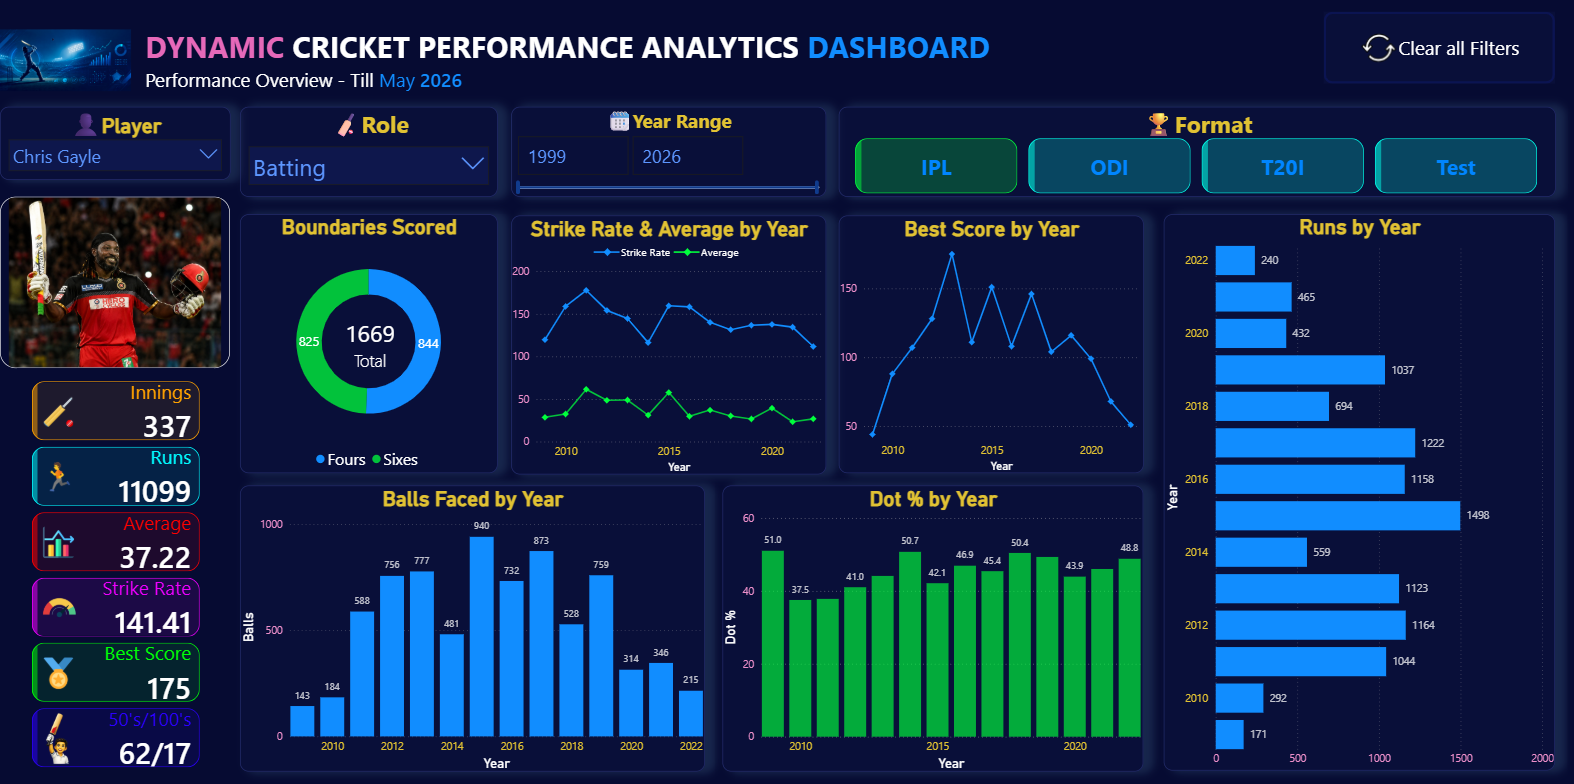

The page's visual inventory and layout, read from the dashboard file:
{"tool":"powerbi","page":{"name":"Page 1","canvas":[2000,1000],"ordinal":0},"visuals":[{"type":"slicer","title":"🗓️Year Range","fields":{"Values":["Years.Year"]},"box":[648.6,138.1,399.7,114.5],"z":0},{"type":"donutChart","fields":{"Y":["Style.Display Boundaries Fours","Style.Display Boundaries Sixes"]},"box":[305.2,274.3,327,328.9],"z":1000},{"type":"advancedSlicerVisual","title":"🏆Format","fields":{"Values":["Formats.Format"]},"box":[1064.7,138.1,910.2,114.5],"z":2000},{"type":"areaChart","title":"Strike Rate & Average by Year","fields":{"Y":["Style.Display Strike Rate","Style.Display Average"],"Category":["Years.Year"]},"box":[648.6,276.2,399.7,328.9],"z":3000},{"type":"slicer","title":"👤Player","fields":{"Values":["Players.Player"]},"box":[0,138.1,292.5,92.7],"z":4000},{"type":"image","box":[0,252.4,292.1,217.5],"z":5000},{"type":"slicer","title":"🏏Role","fields":{"Values":["Style.Style"]},"box":[305.2,138.1,327,114.5],"z":6000},{"type":"lineChart","fields":{"Y":["Style.Display Best Score/BBI Wickets"],"Category":["Years.Year"]},"box":[1064.7,276.2,387,327],"z":7000},{"type":"barChart","fields":{"Category":["Years.Year"],"Y":["Style.Display Runs/Wickets by Year"]},"box":[1477.4,274.2,496.8,706.5],"z":8000},{"type":"cardVisual","fields":{"Data":["Style.Display Innings","Style.Display Runs/Wickets","Style.Display Average","Style.Display Strike Rate/Economy","Style.Display Best Score/BBI","Style.Display 50s&100s / 5Wickets"]},"box":[23.6,470.6,247.1,528.7],"z":9000},{"type":"cardVisual","fields":{"Data":["Style.Display Total Boundaries"]},"box":[407.4,387,124.1,105.6],"z":10000},{"type":"clusteredColumnChart","fields":{"Category":["Years.Year"],"Y":["Style.Display Balls"]},"box":[304.8,619.4,590,363],"z":11000},{"type":"columnChart","title":"Dot % by Year","fields":{"Category":["Years.Year"],"Y":["Style.Display Dot %"]},"box":[917.5,619.6,534.2,363.4],"z":12000},{"type":"image","box":[0,18.3,166.7,120],"z":13000},{"type":"textbox","box":[180,18.3,1090,146.7],"z":14000},{"type":"actionButton","box":[1680.4,17.4,293.5,91.3],"z":15000}]}

Visuals, with their boxes in screenshot pixels (x1, y1, x2, y2), scaled from the page's 2000x1000 canvas onto the 1574x784 screenshot:
"🗓️Year Range" slicer: 510,108,825,198
donutChart - Style.Display Boundaries Fours x Style.Display Boundaries Sixes: 240,215,498,473
"🏆Format" advancedSlicerVisual: 838,108,1554,198
"Strike Rate & Average by Year" areaChart: 510,217,825,474
"👤Player" slicer: 0,108,230,181
image: 0,198,230,368
"🏏Role" slicer: 240,108,498,198
lineChart - Style.Display Best Score/BBI Wickets x Years.Year: 838,217,1142,473
barChart - Years.Year x Style.Display Runs/Wickets by Year: 1163,215,1554,769
cardVisual - Style.Display Innings x Style.Display Runs/Wickets: 19,369,213,783
cardVisual - Style.Display Total Boundaries: 321,303,418,386
clusteredColumnChart - Years.Year x Style.Display Balls: 240,486,704,770
"Dot % by Year" columnChart: 722,486,1142,771
image: 0,14,131,108
textbox: 142,14,999,129
actionButton: 1322,14,1553,85
